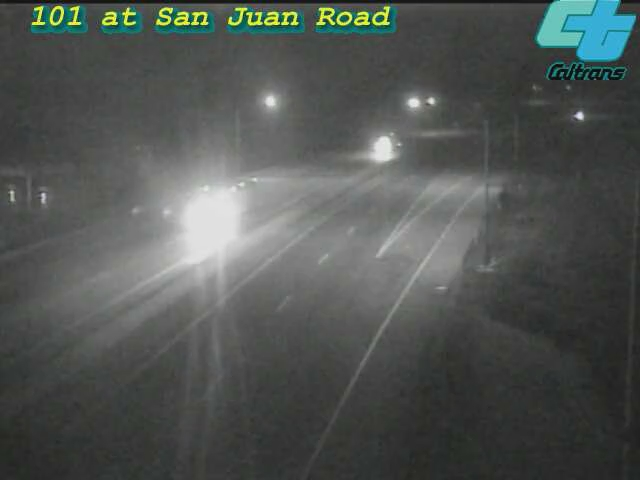vehicle: (192, 168, 272, 248), (359, 121, 409, 171), (555, 90, 605, 140)
